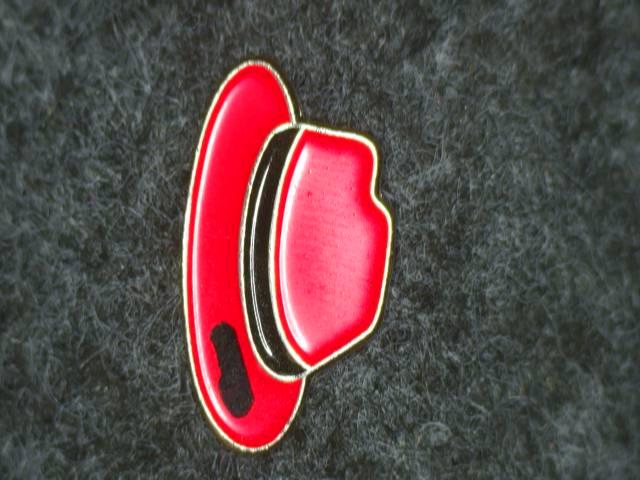Red-Hat: (150, 38, 420, 480)
Scratch: (197, 308, 277, 436)
